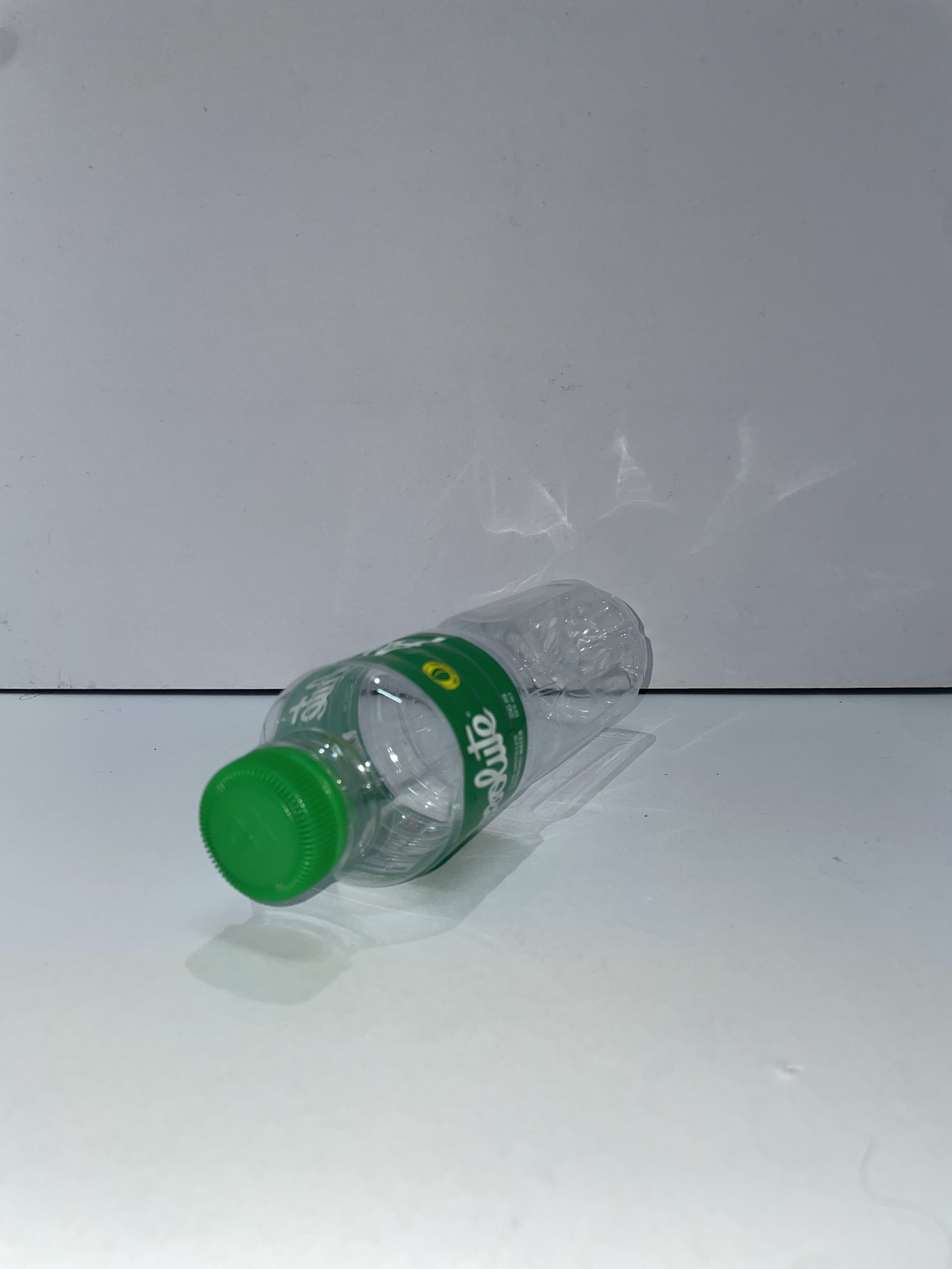Absolute 350ml: (200, 581, 650, 905)
